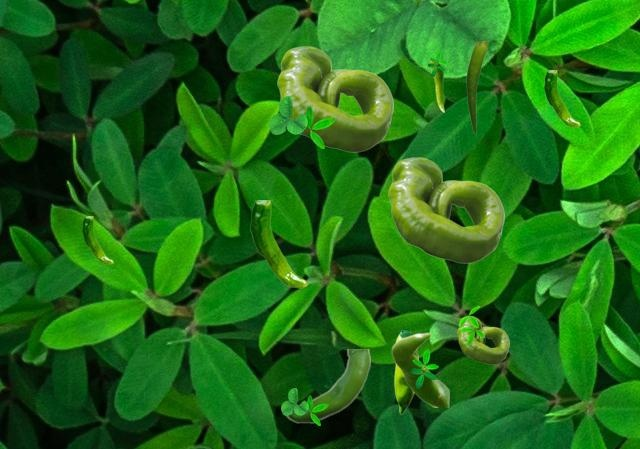green_chili: (388, 157, 503, 262), (277, 46, 392, 151), (285, 349, 369, 423), (250, 200, 306, 287), (391, 332, 448, 406), (457, 316, 508, 363), (544, 70, 579, 126), (394, 330, 417, 413), (466, 41, 486, 133), (82, 216, 112, 263), (430, 61, 443, 111)
